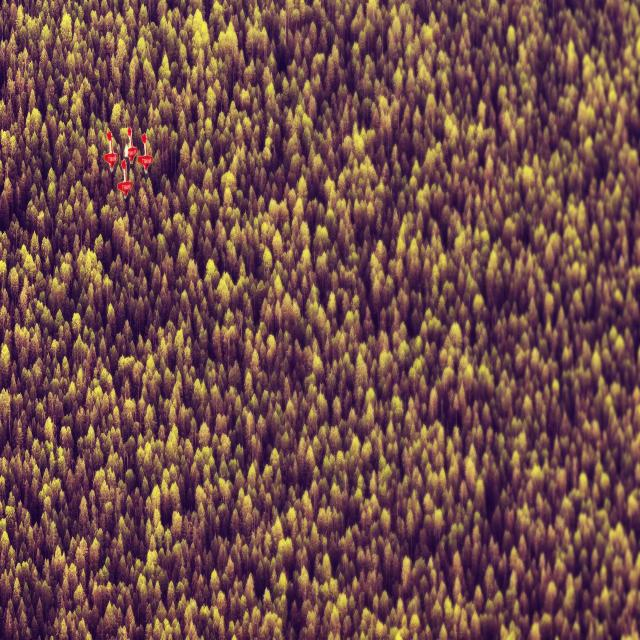airplane: (138, 132, 153, 174), (118, 161, 133, 200), (104, 131, 118, 172), (124, 126, 138, 165)
